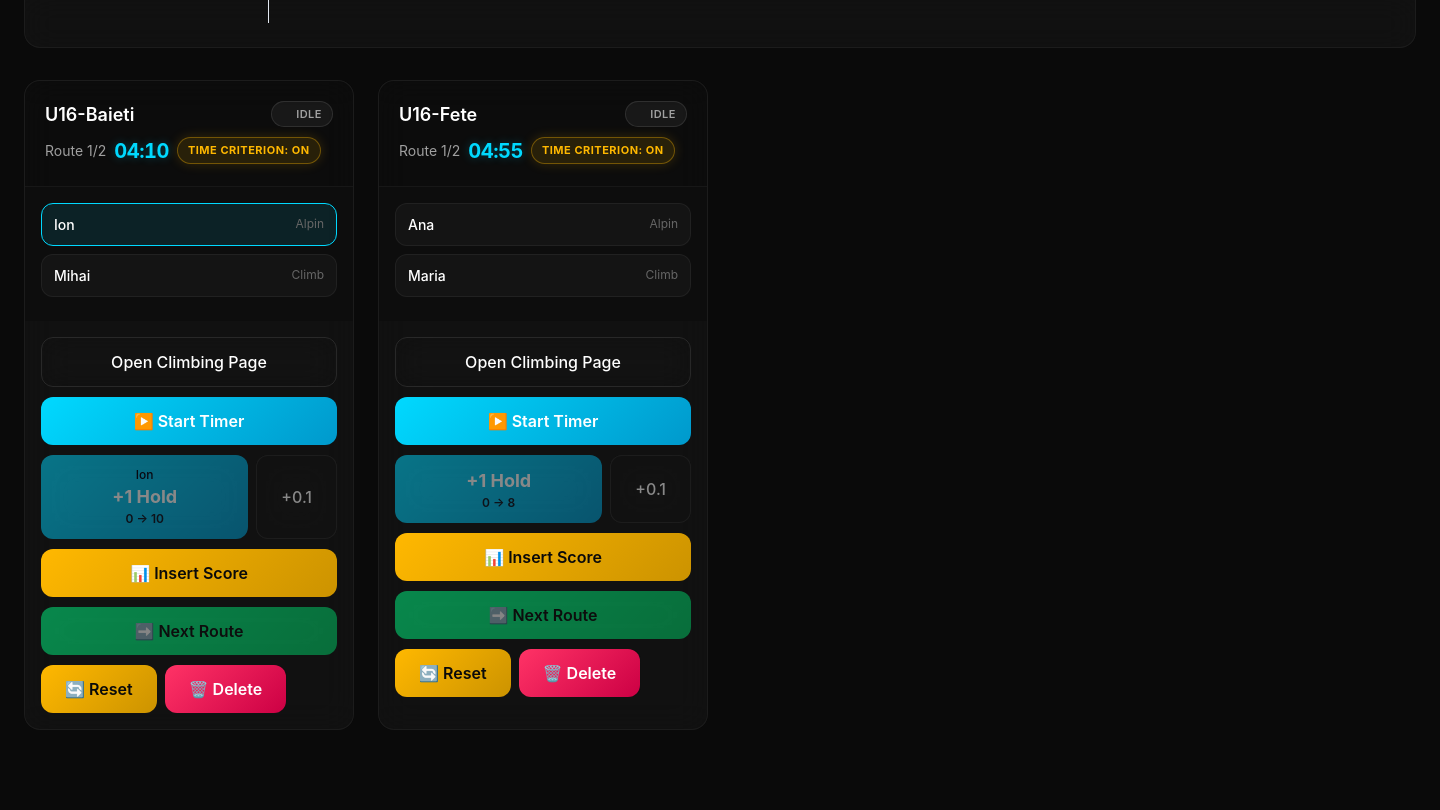
Test case: ControlPanel button flows › opens Insert Score modal without ContestPage open
The width and height of the screenshot is (1440, 810).
(page scrolled)
Step 1. Click the button "📊 Insert Score" below "Mihai" → (189, 573), box [41,549,337,597]
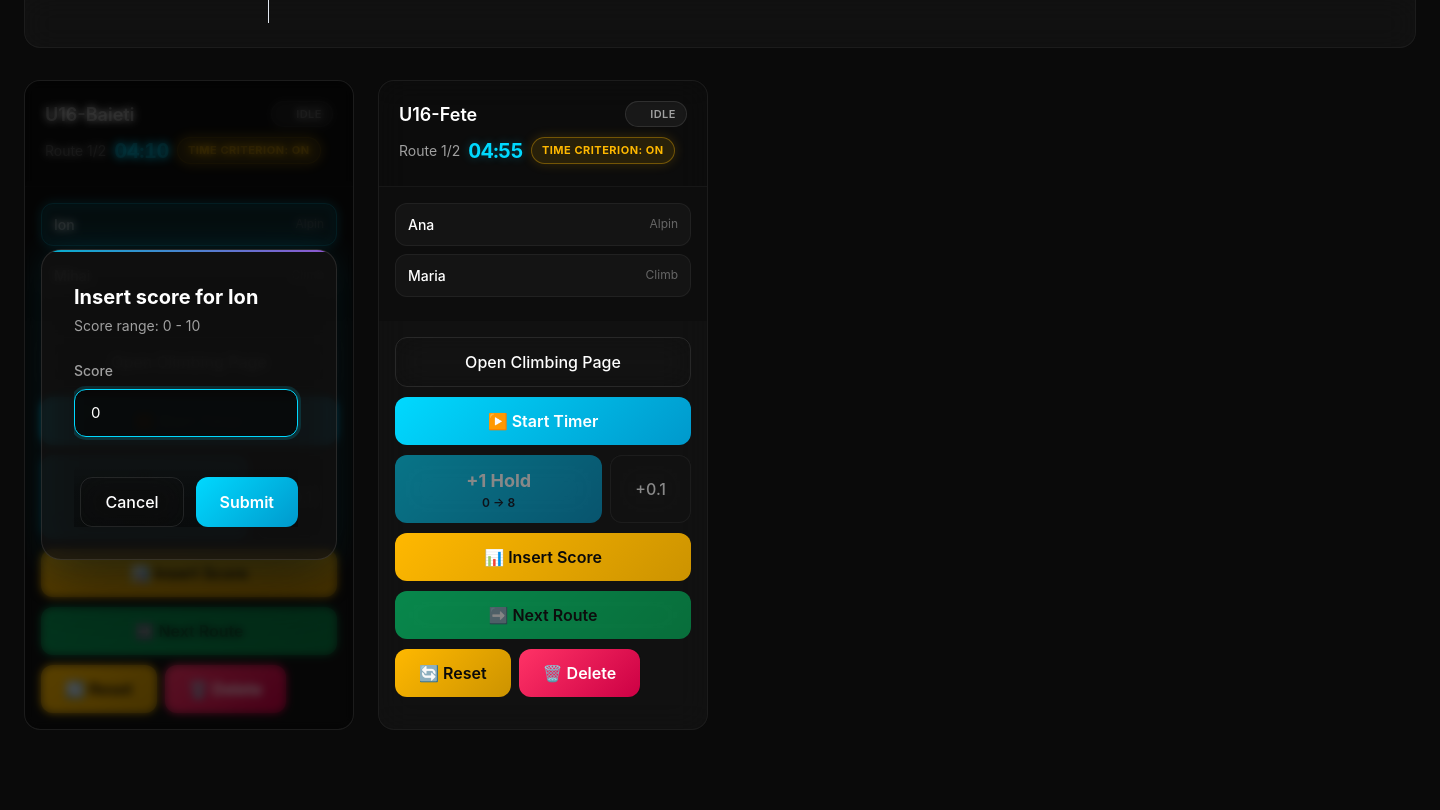
expect the field labelled "Score" is shown: met, box [74,389,298,437]
